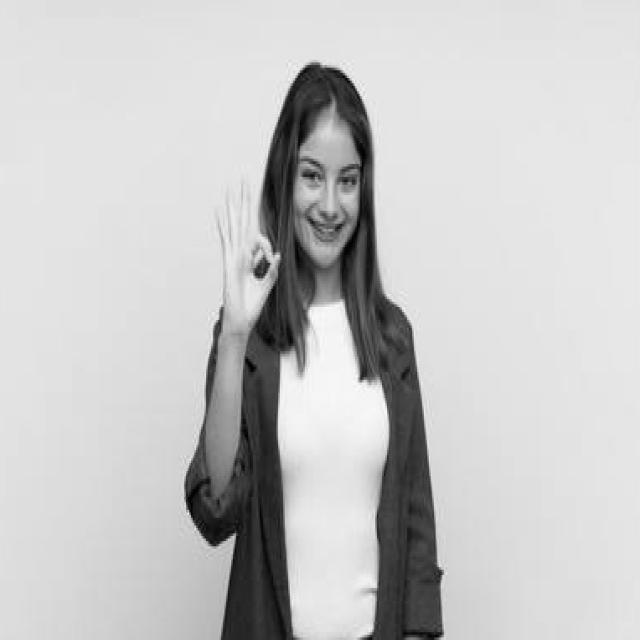perfect: (210, 168, 281, 338)
